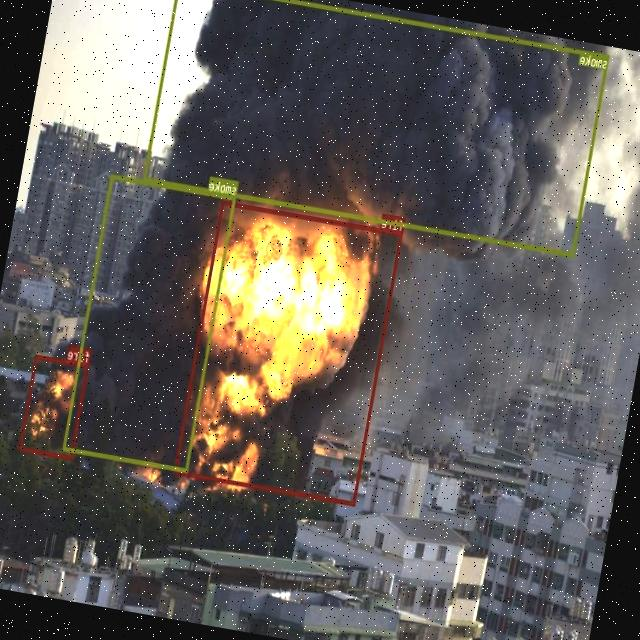fire: (174, 200, 403, 504), (19, 353, 90, 459)
smoke: (142, 0, 609, 255), (62, 174, 236, 472)
